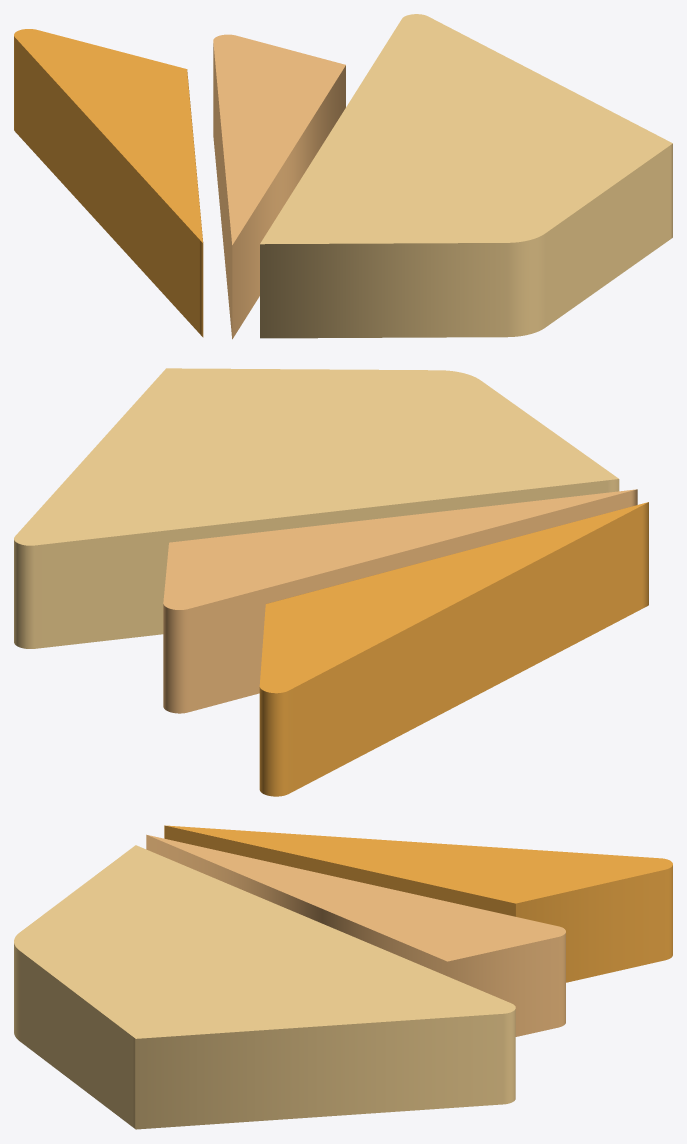
The model's file is firebase.fbx.
The picture shows the model from 3 angles, top to bottom: view 1: azimuth 30°, elevation 25°; view 2: azimuth 150°, elevation 25°; view 3: azimuth 270°, elevation 25°; orthographic projection. The views are drawn at different scales.
Visible parts, largest first — view 1: path32, path10-3-3, path1948; view 2: path32, path10-3-3, path1948; view 3: path32, path10-3-3, path1948.
Boxes of the visible parts, bbox=[...] form: path32: bbox=[260, 14, 672, 338]; path10-3-3: bbox=[14, 29, 203, 337]; path1948: bbox=[213, 34, 345, 339]; path32: bbox=[14, 368, 619, 648]; path10-3-3: bbox=[259, 502, 648, 796]; path1948: bbox=[163, 489, 637, 713]; path32: bbox=[14, 845, 515, 1129]; path10-3-3: bbox=[164, 825, 672, 982]; path1948: bbox=[146, 834, 565, 1036].
Size of the model in its own units: 77.69 by 15.15 by 99.81.
